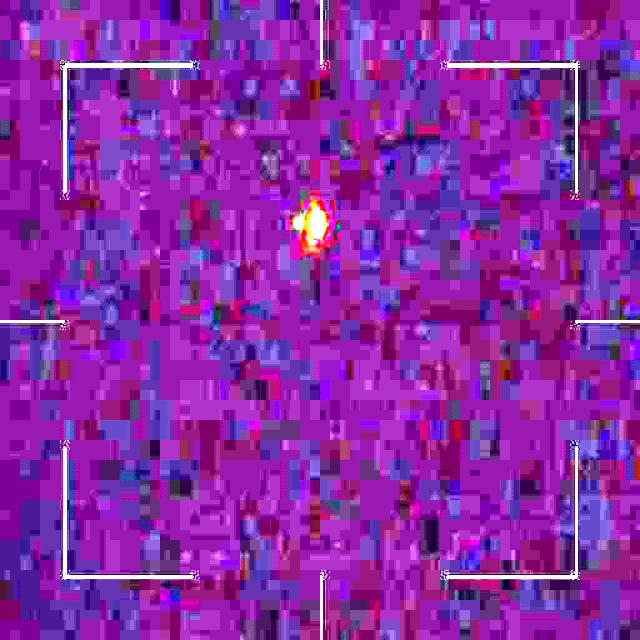bird: (294, 202, 326, 254)
